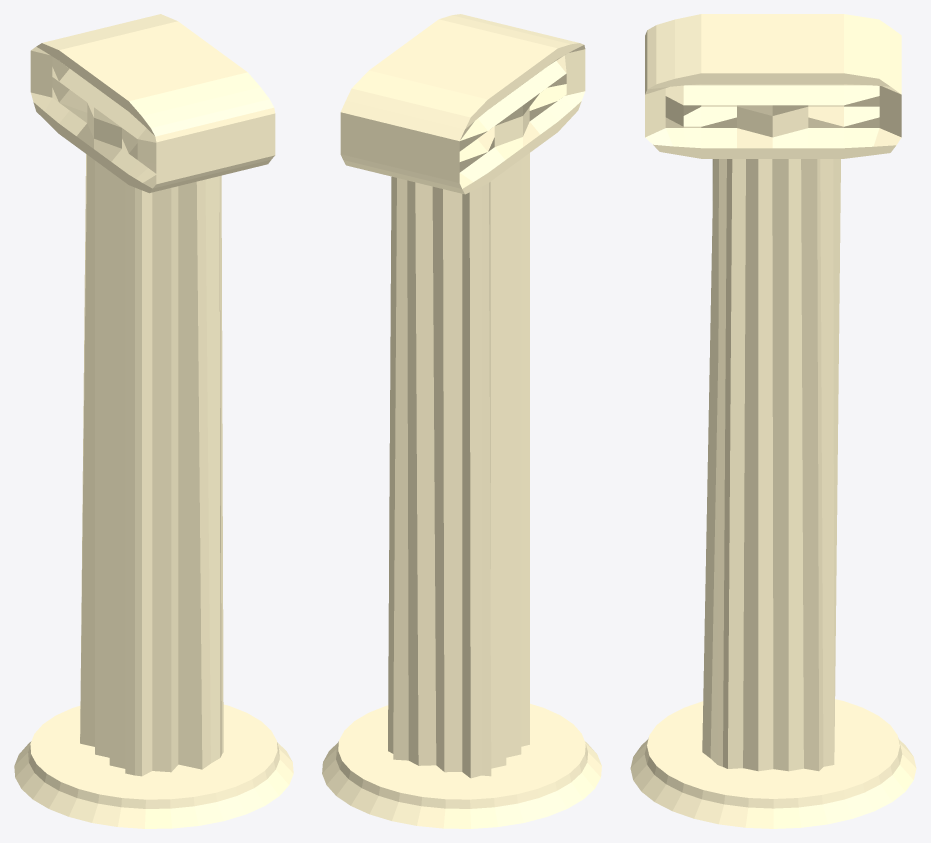
The model's file is Column02.fbx.
3 renders of one model, left to right at view 1: azimuth 30°, elevation 25°; view 2: azimuth 150°, elevation 25°; view 3: azimuth 270°, elevation 25°, orthographic. The views are drawn at different scales.
Visible parts, largest first — view 1: Column, Cube, Base; view 2: Column, Cube, Base; view 3: Column, Cube, Base.
Boxes of the visible parts, x1=… form: Column: x1=80, y1=154, x2=223, y2=776; Cube: x1=30, y1=14, x2=275, y2=193; Base: x1=14, y1=704, x2=293, y2=828; Column: x1=388, y1=153, x2=529, y2=778; Cube: x1=340, y1=14, x2=585, y2=194; Base: x1=322, y1=703, x2=601, y2=828; Column: x1=702, y1=159, x2=840, y2=771; Cube: x1=645, y1=14, x2=901, y2=158; Base: x1=630, y1=699, x2=916, y2=828.
Bounding box in the file's own units: 200 × 559 × 200.
